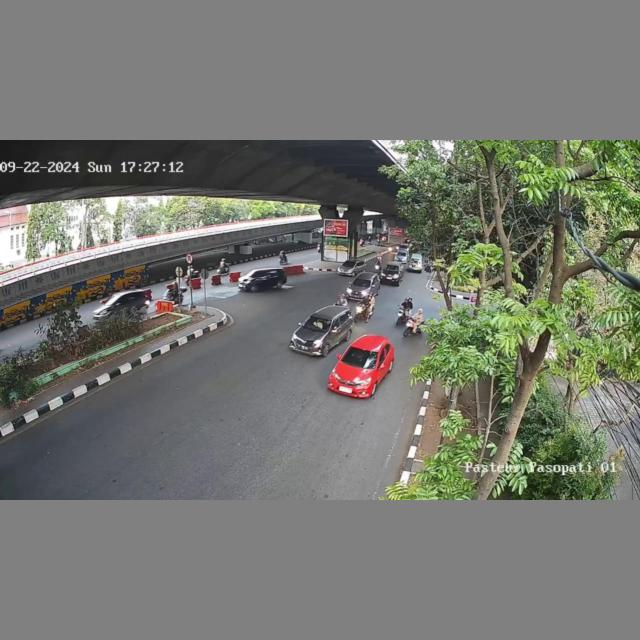windshield: (342, 348, 378, 367), (300, 317, 331, 333), (353, 278, 371, 287)
